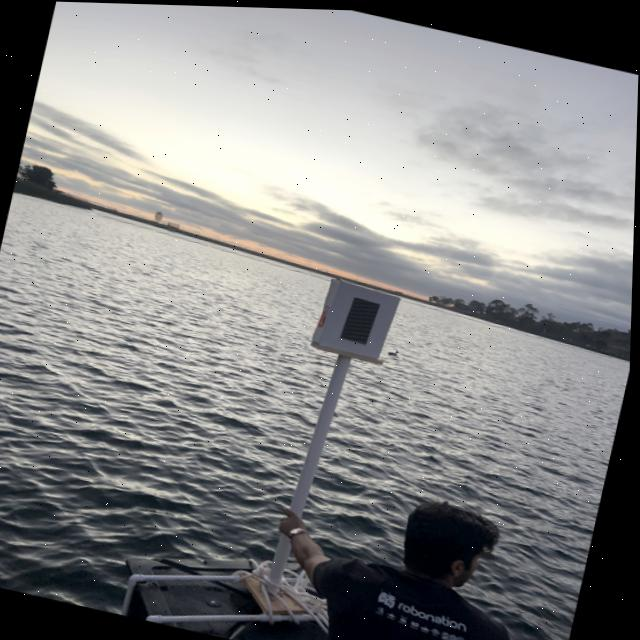led: (324, 274, 399, 365)
